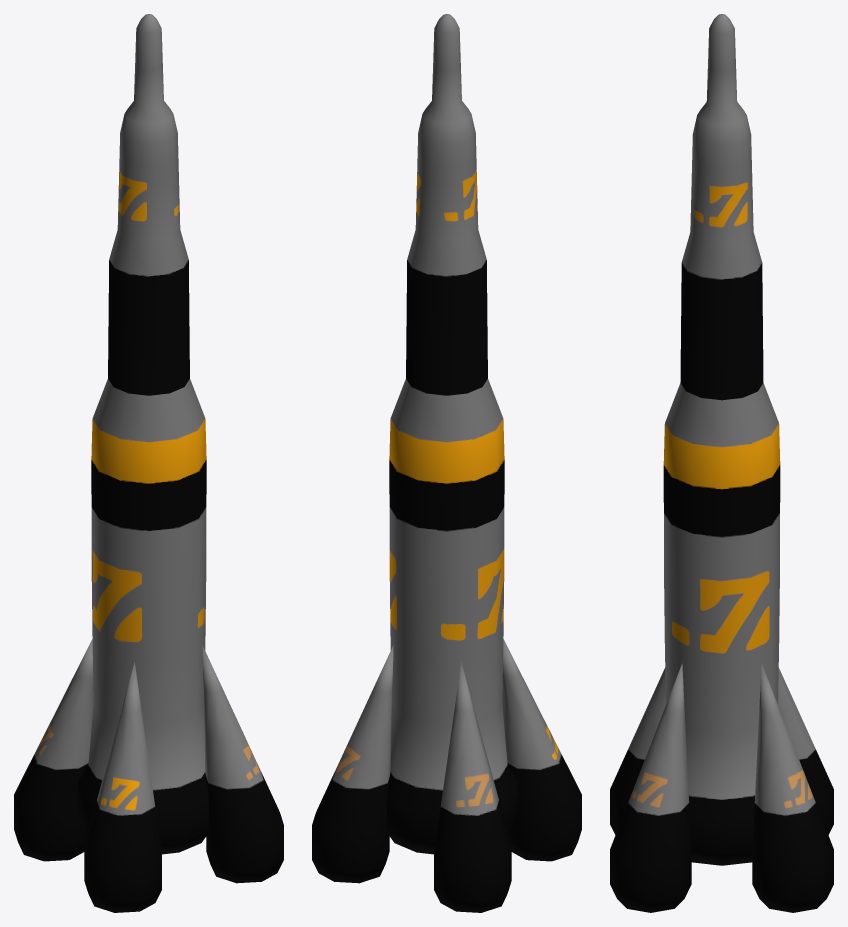
The model's file is Rocket.fbx.
3 renders of one model, left to right at view 1: azimuth 30°, elevation 25°; view 2: azimuth 150°, elevation 25°; view 3: azimuth 270°, elevation 25°, orthographic.
Parts seen in each view (by area): view 1: Rocket001; view 2: Rocket001; view 3: Rocket001.
Part boxes in pixels (box(x1,y1,x2,y2)): Rocket001: box(14, 14, 283, 912); Rocket001: box(312, 14, 581, 912); Rocket001: box(610, 14, 833, 912).
Size of the model in its own units: 384 by 1618 by 384.
